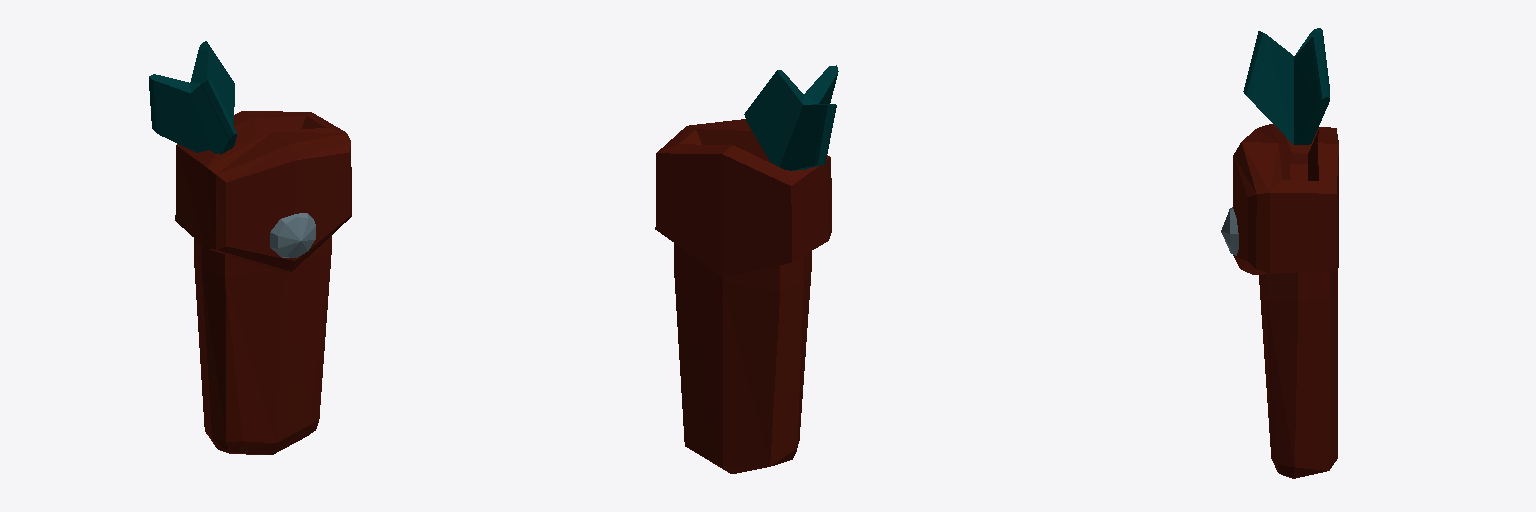
The model's file is quiver_half_full.obj.
The picture shows the model from 3 angles: view 1: azimuth 30°, elevation 25°; view 2: azimuth 150°, elevation 25°; view 3: azimuth 270°, elevation 25°; orthographic projection.
Visible parts, largest first — view 1: quiver_half_full_Cube.3069; view 2: quiver_half_full_Cube.3069; view 3: quiver_half_full_Cube.3069.
Part boxes in pixels (x1,y1,x2,y2): quiver_half_full_Cube.3069: (149,41,351,454); quiver_half_full_Cube.3069: (655,65,838,473); quiver_half_full_Cube.3069: (1221,28,1338,478).
Bounding box in the file's own units: 0.3037 × 0.6914 × 0.178.